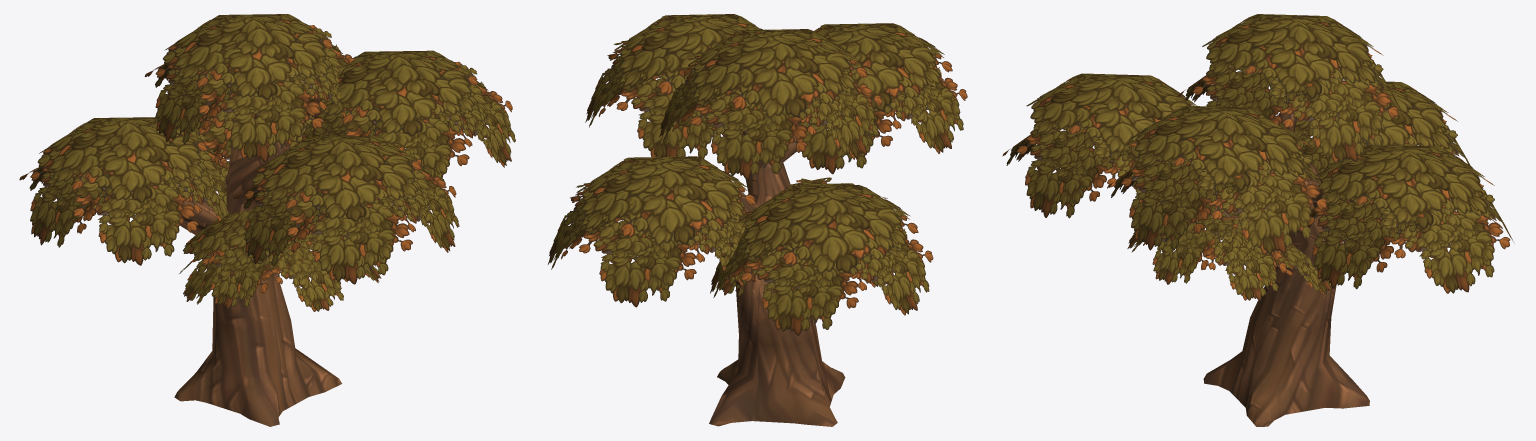
The model's file is tree2.FBX.
3 renders of one model, left to right at view 1: azimuth 30°, elevation 25°; view 2: azimuth 150°, elevation 25°; view 3: azimuth 270°, elevation 25°, orthographic.
Visible parts, largest first — view 1: tree-2; view 2: tree-2; view 3: tree-2.
Part boxes in pixels (x1,y1,x2,y2): tree-2: [19, 14, 515, 426]; tree-2: [548, 14, 967, 426]; tree-2: [1002, 14, 1513, 426].
Size of the model in its own units: 3048 by 2707 by 3456.
1 material, 1 textured.
